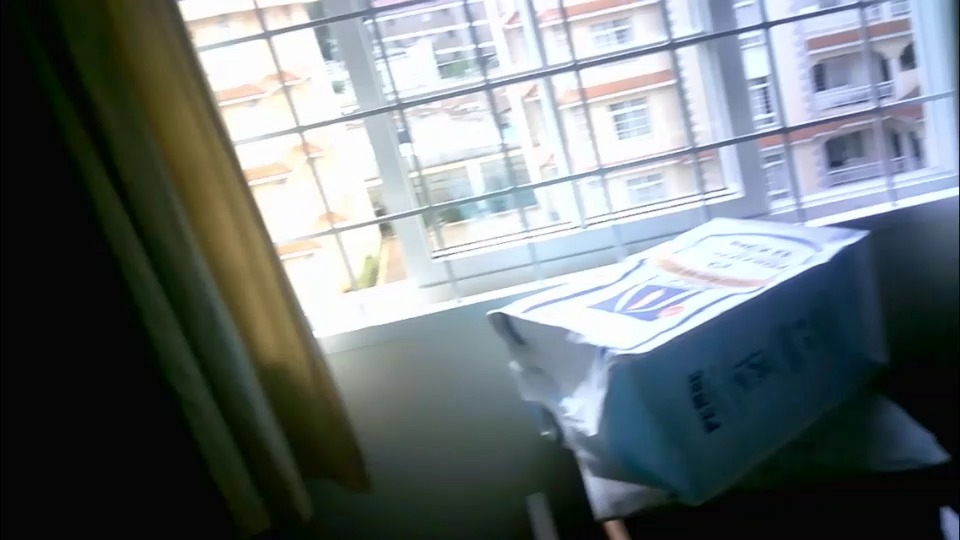wheat_flour_blue_label: (489, 217, 887, 505)
